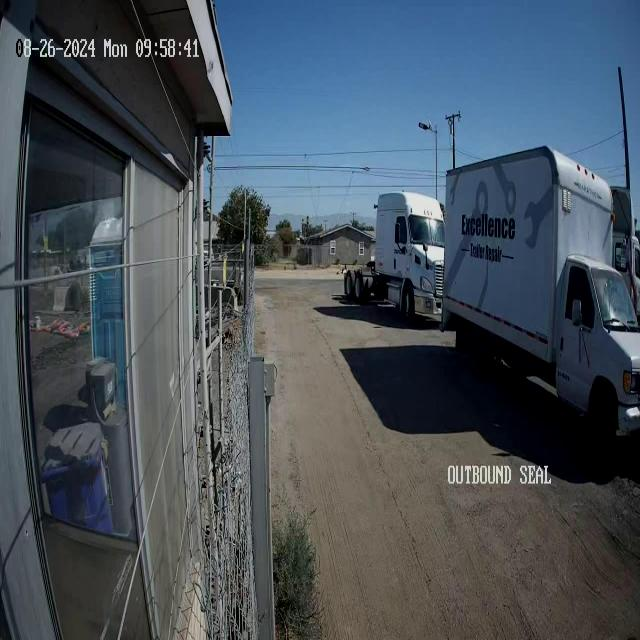BOBTAIL: (342, 192, 444, 326)
TRUCK_CONTAINER: (440, 144, 639, 458)
